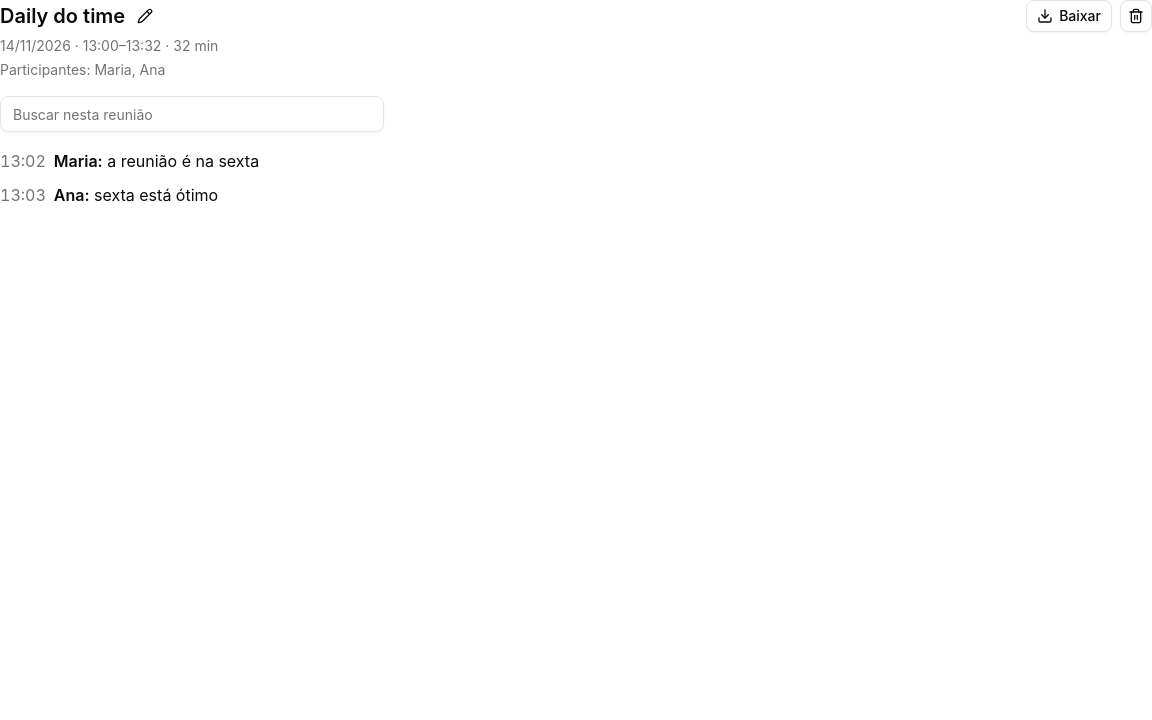
it: MeetingDetail › apagar pede confirmação
Later steps or results of the test are not shown.
What coordinates should you click on to do the following:
click the button named "Apagar reunião"
I would click on:
 (1136, 16)
Its box is [1120, 0, 1151, 32].
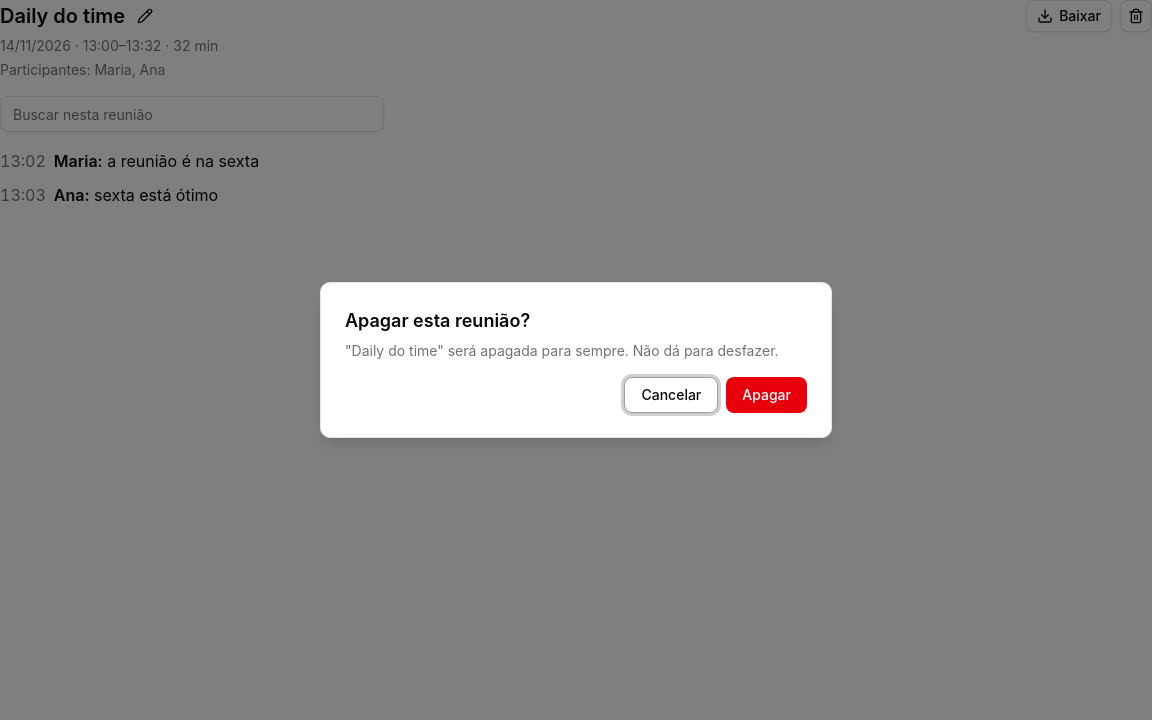
Expected: the heading "Apagar esta reunião?" is shown, [345, 307, 530, 335]
